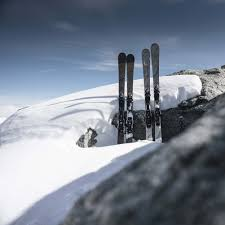skis: (139, 43, 164, 143), (115, 52, 136, 145)
